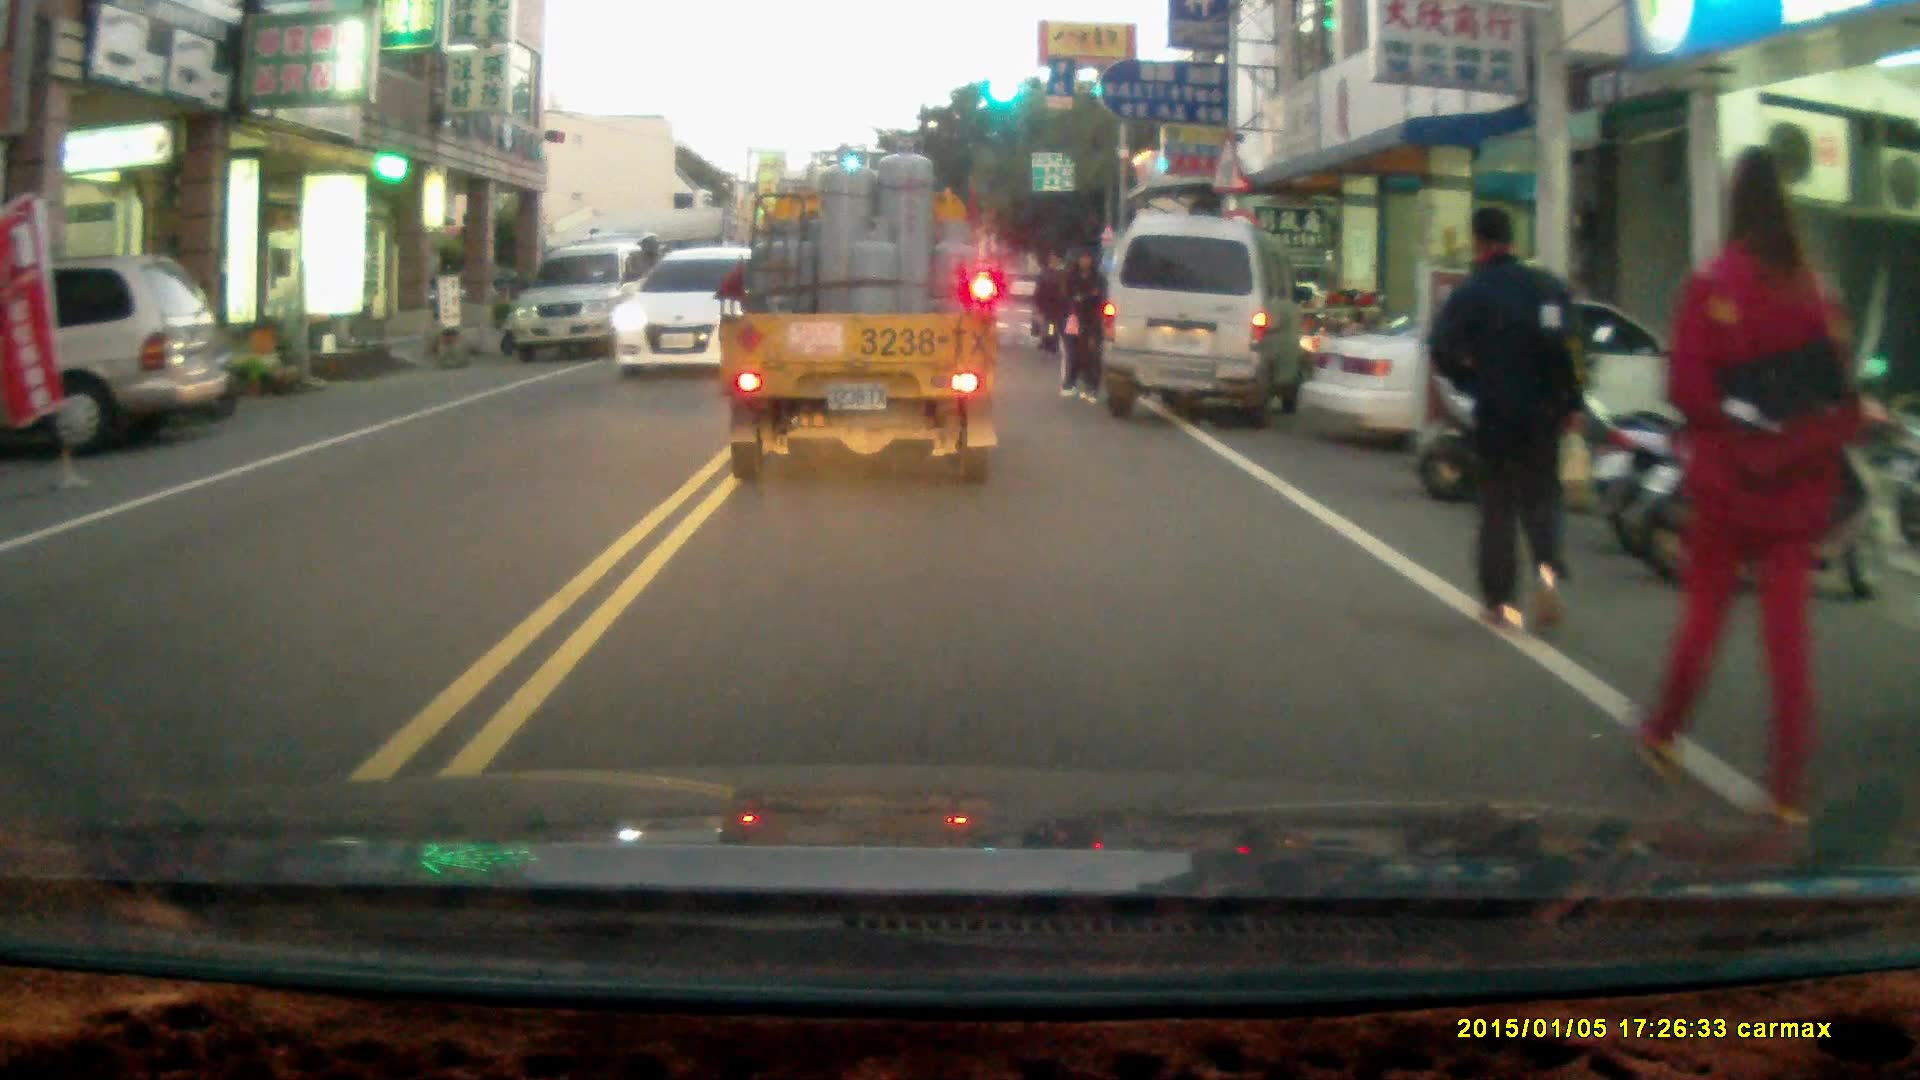pedestrian: (1630, 143, 1862, 849), (1426, 204, 1584, 633), (1060, 245, 1103, 401), (1031, 249, 1076, 356)
vehicle: (720, 190, 999, 487), (1307, 299, 1753, 467), (1, 252, 231, 452), (1102, 214, 1309, 428), (503, 245, 665, 362), (608, 246, 746, 379)
